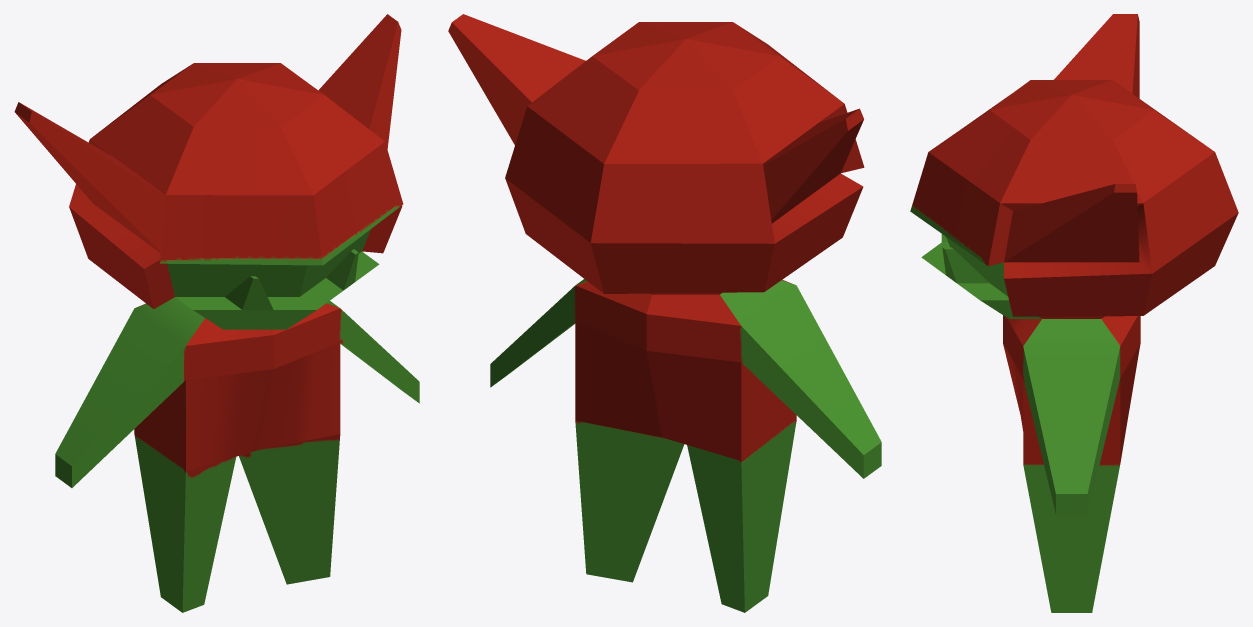
The model's file is UnitBig.fbx.
3 renders of one model, left to right at view 1: azimuth 30°, elevation 25°; view 2: azimuth 150°, elevation 25°; view 3: azimuth 270°, elevation 25°, orthographic. The views are drawn at different scales.
Visible parts, largest first — view 1: pSphere2; view 2: pSphere2; view 3: pSphere2.
Part boxes in pixels (<box>): pSphere2: <box>14,14,419,612</box>; pSphere2: <box>448,14,881,612</box>; pSphere2: <box>910,14,1238,612</box>.
Size of the model in its own units: 62.19 by 82.41 by 50.32.
